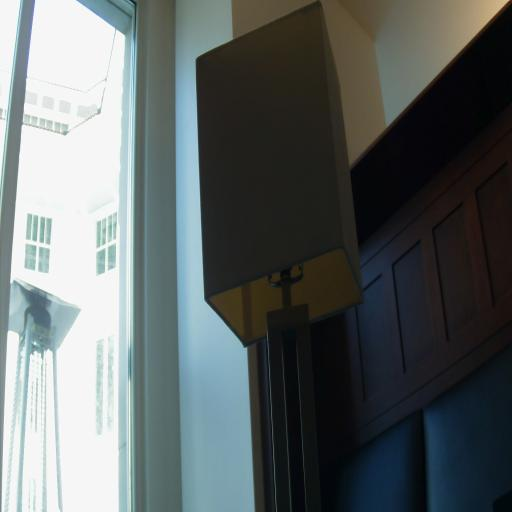lamp: (196, 1, 364, 512)
